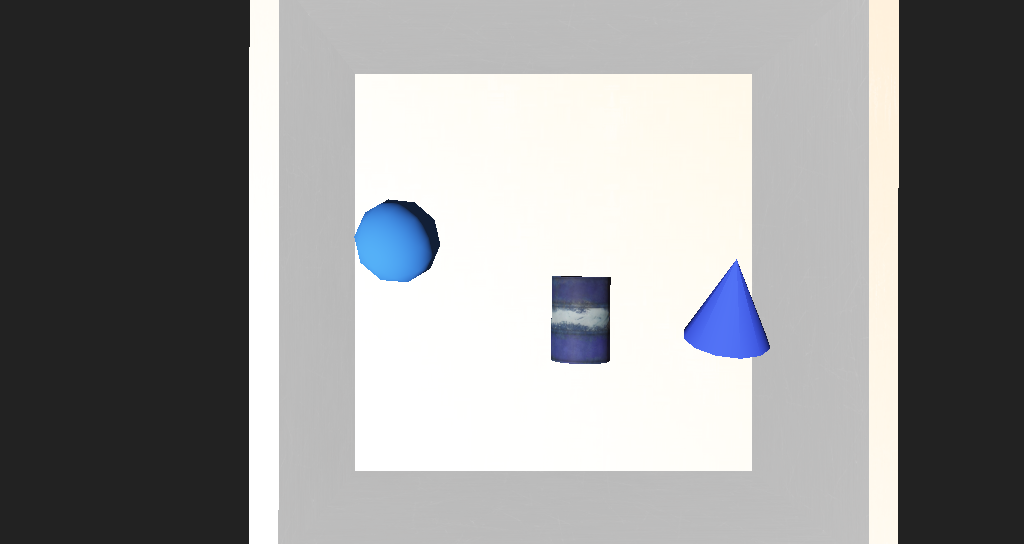cone: (502, 267, 549, 315)
cylinder: (603, 255, 677, 317)
sphere: (360, 231, 421, 274)
